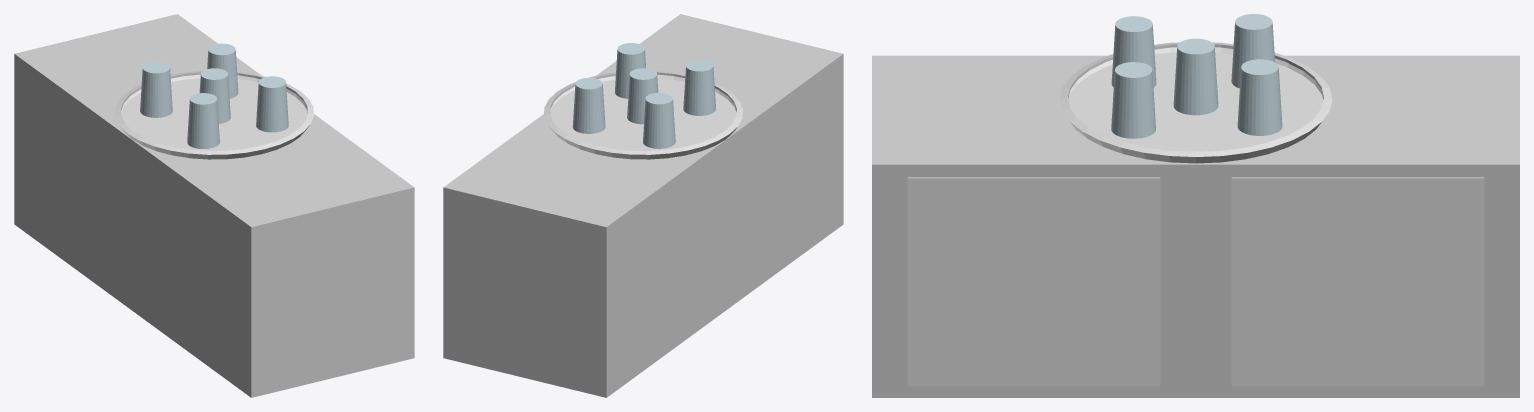
Rendered from MejaGelas.fbx.
3 renders of one model, left to right at view 1: azimuth 30°, elevation 25°; view 2: azimuth 150°, elevation 25°; view 3: azimuth 270°, elevation 25°, orthographic. The views are drawn at different scales.
Parts seen in each view (by area): view 1: MejaGelas; view 2: MejaGelas; view 3: MejaGelas.
Part boxes in pixels (left/top/right/bottom): MejaGelas: left=14, top=14, right=414, bottom=397; MejaGelas: left=443, top=14, right=843, bottom=397; MejaGelas: left=872, top=14, right=1519, bottom=397.
Size of the model in its own units: 212 by 255 by 503.
